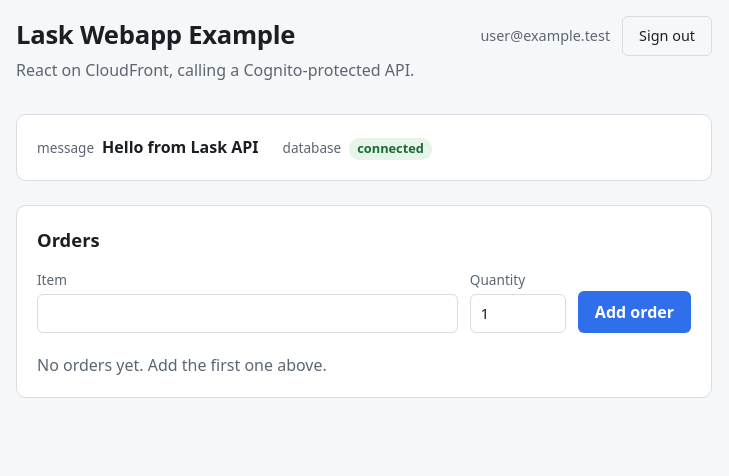
Scenario: App › submits a new order and shows it in the list
Expected: the text "Hello from Lask API" is shown, [102,135,259,159]
Expected: the heading "Orders" is shown, [37,227,100,252]
Type "Widget" into the field labelled "Item" at (247, 314), box [37,294,458,333]
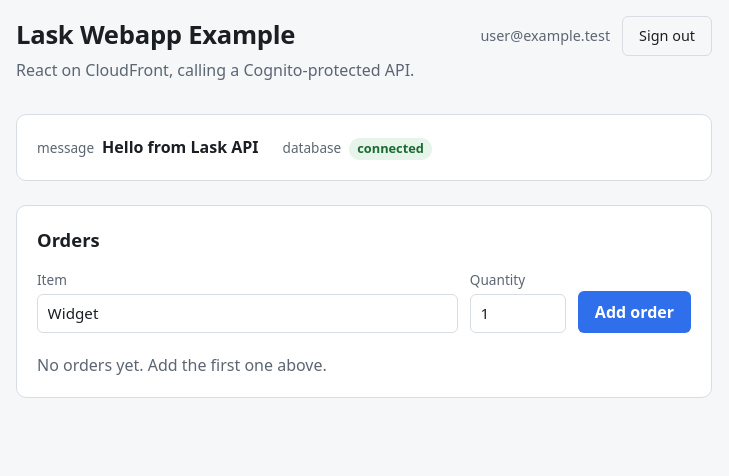
Replace the text in the number field labelled "Quantity" with "3" at (518, 314), box [470,294,566,333]
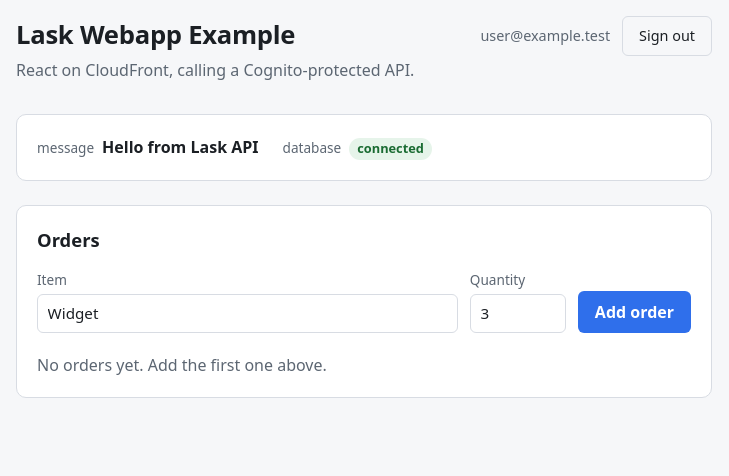
Click the button "Add order" at (634, 312), box [578,291,691,333]
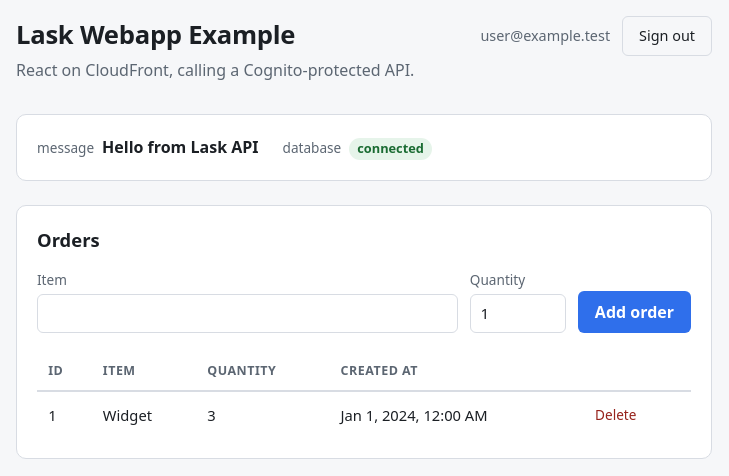
Now the text "Widget" is shown, box [92,391,196,438]
